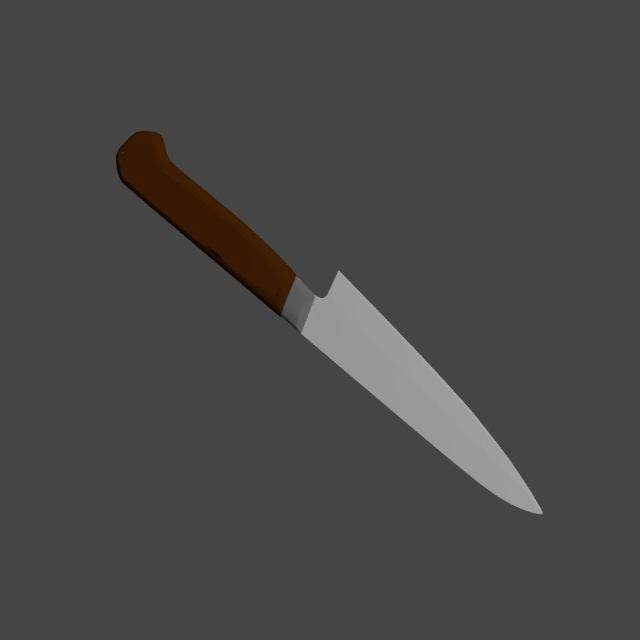knife: (117, 130, 297, 318)
